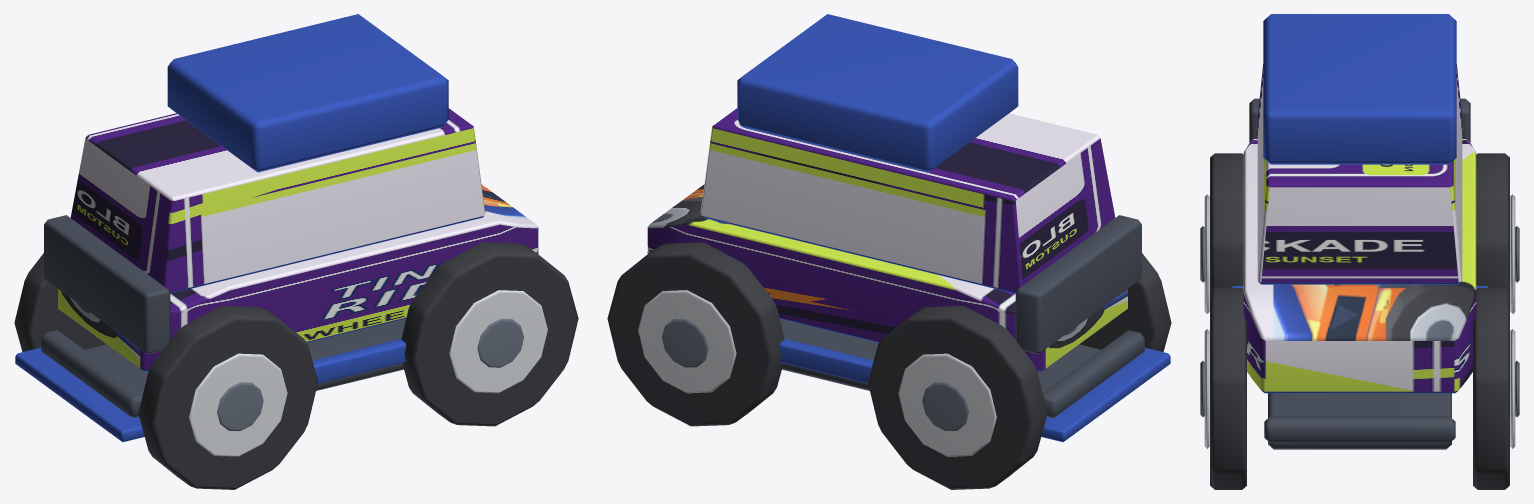
3 views of the same model, side by side, from view 1: azimuth 30°, elevation 25°; view 2: azimuth 150°, elevation 25°; view 3: azimuth 270°, elevation 25° (orthographic). The views are drawn at different scales.
Visible parts, largest first — view 1: BW-02_cabin, armored roof canopy, BW-02_connected_shell, Tire, Tire.002, armored face guard, Rim, Rim.002, custom chin, underbody, Tire.001, front bumper (+3 smaller); view 2: BW-02_cabin, armored roof canopy, BW-02_connected_shell, Tire.001, Tire.003, armored face guard, Rim.001, Rim.003, custom chin, underbody, Tire, front bumper (+3 smaller); view 3: armored roof canopy, BW-02_connected_shell, BW-02_cabin, Tire.002, Tire.003, underbody, rear bumper, Tire, Tire.001, armored face guard, Rim.002, Rim.003 (+2 smaller).
Part boxes in pixels (box(x1,y1,x2,y2)): BW-02_cabin: box(70, 108, 485, 293); armored roof canopy: box(167, 14, 448, 172); BW-02_connected_shell: box(58, 184, 538, 371); Tire: box(138, 306, 317, 489); Tire.002: box(401, 242, 578, 426); armored face guard: box(44, 215, 170, 354); Rim: box(189, 353, 287, 456); Rim.002: box(449, 290, 547, 393); custom chin: box(15, 347, 144, 442); underbody: box(85, 319, 405, 392); Tire.001: box(14, 253, 106, 351); front bumper: box(41, 330, 143, 418); BW-02_cabin: box(700, 108, 1115, 293); armored roof canopy: box(737, 14, 1018, 172); BW-02_connected_shell: box(647, 184, 1127, 371); Tire.001: box(868, 306, 1047, 489); Tire.003: box(607, 242, 784, 426); armored face guard: box(1015, 215, 1141, 354); Rim.001: box(898, 353, 996, 456); Rim.003: box(638, 290, 736, 393); custom chin: box(1041, 347, 1170, 442); underbody: box(780, 319, 1100, 392); Tire: box(1079, 253, 1171, 351); front bumper: box(1042, 330, 1144, 418); armored roof canopy: box(1263, 14, 1456, 164); BW-02_connected_shell: box(1243, 136, 1476, 393); BW-02_cabin: box(1257, 64, 1462, 284); Tire.002: box(1210, 288, 1246, 489); Tire.003: box(1473, 288, 1509, 489); underbody: box(1268, 393, 1451, 449); rear bumper: box(1264, 416, 1455, 442); Tire: box(1210, 153, 1243, 291); Tire.001: box(1476, 153, 1509, 291); armored face guard: box(1249, 98, 1470, 142); Rim.002: box(1204, 329, 1209, 448); Rim.003: box(1510, 329, 1515, 448).
Bounding box in the file's own units: 381 × 279 × 225.
